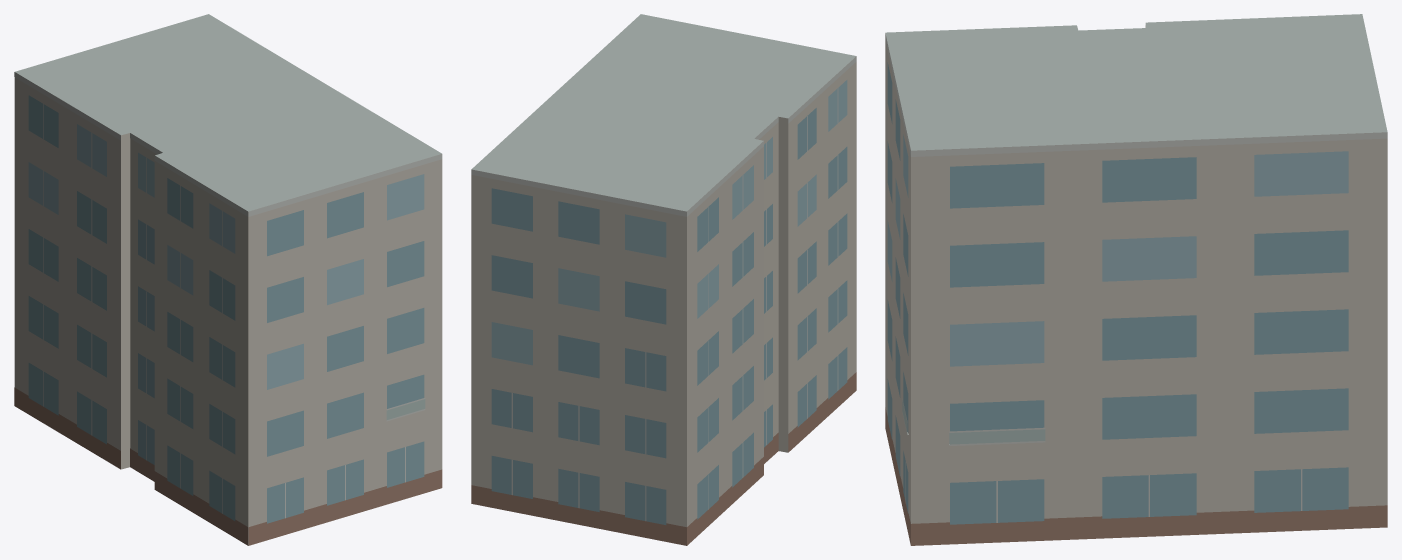
File: survey-upis-32918012.glb
3 renders of one model, left to right at view 1: azimuth 30°, elevation 25°; view 2: azimuth 150°, elevation 25°; view 3: azimuth 270°, elevation 25°, orthographic. The views are drawn at different scales.
Parts seen in each view (by area): view 1: survey-upis-32918012.tmp; view 2: survey-upis-32918012.tmp; view 3: survey-upis-32918012.tmp.
Part boxes in pixels (x1,y1,x2,y2): survey-upis-32918012.tmp: [14, 14, 442, 545]; survey-upis-32918012.tmp: [471, 14, 856, 545]; survey-upis-32918012.tmp: [885, 14, 1387, 545].
Bounding box in the file's own units: 11.32 × 15.25 × 17.58.
